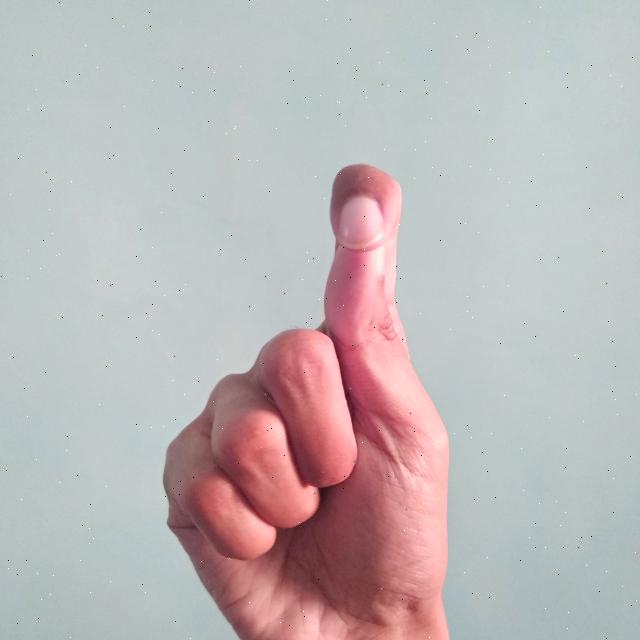T: (160, 155, 456, 640)
